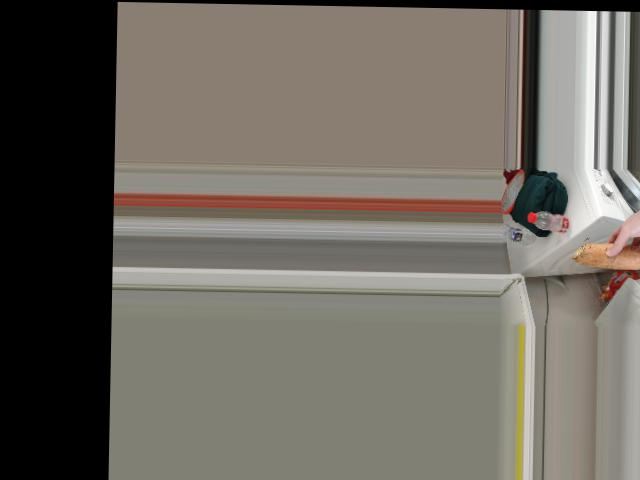sweet_potato: (579, 238, 640, 272)
